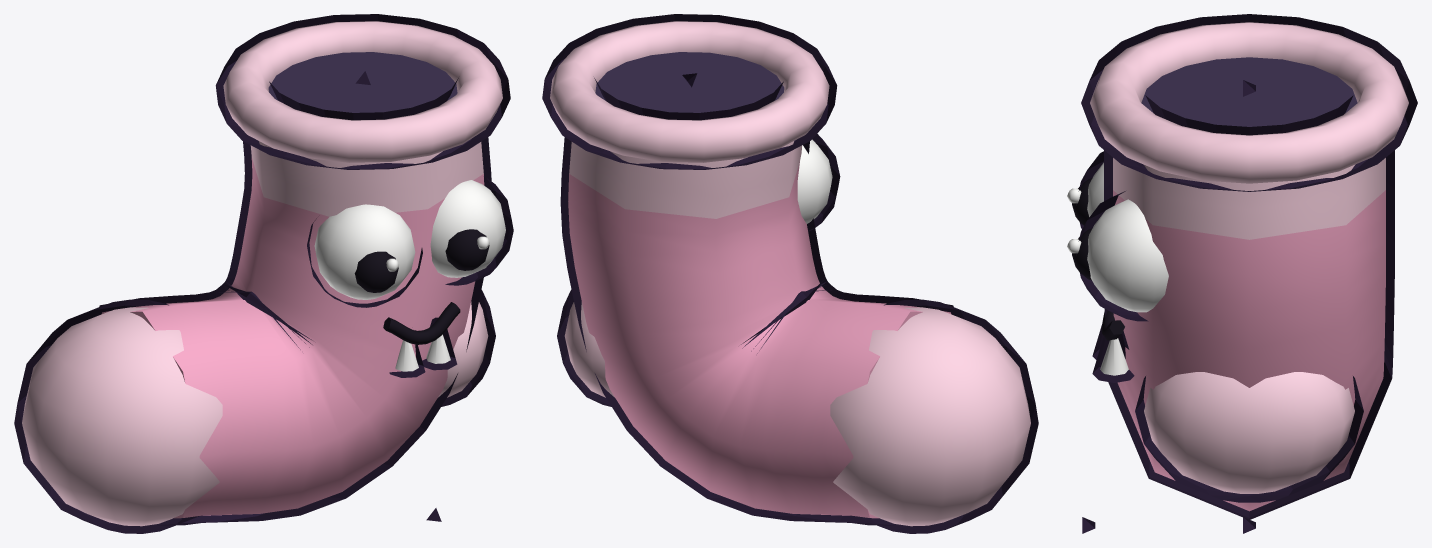
File: AnkleBiter_L.glb
3 renders of one model, left to right at view 1: azimuth 30°, elevation 25°; view 2: azimuth 150°, elevation 25°; view 3: azimuth 270°, elevation 25°, orthographic. The views are drawn at different scales.
Visible parts, largest first — view 1: AnkleBiter_L, AnkleBiter_L_Outline; view 2: AnkleBiter_L, AnkleBiter_L_Outline; view 3: AnkleBiter_L, AnkleBiter_L_Outline.
Part boxes in pixels (left/top/right/bottom): AnkleBiter_L: left=22, top=21, right=505, bottom=526; AnkleBiter_L_Outline: left=14, top=14, right=513, bottom=533; AnkleBiter_L: left=550, top=21, right=1030, bottom=526; AnkleBiter_L_Outline: left=542, top=14, right=1038, bottom=533; AnkleBiter_L: left=1067, top=22, right=1408, bottom=511; AnkleBiter_L_Outline: left=1076, top=14, right=1417, bottom=519.
Size of the model in its own units: 3.77 by 3.32 by 2.18.
1 material, 1 textured.
